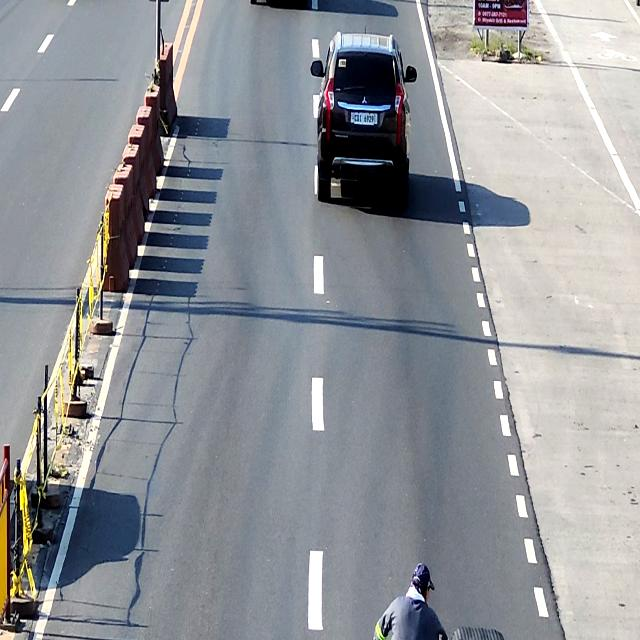Car: (311, 32, 417, 210)
License-Plate: (354, 112, 374, 124)
